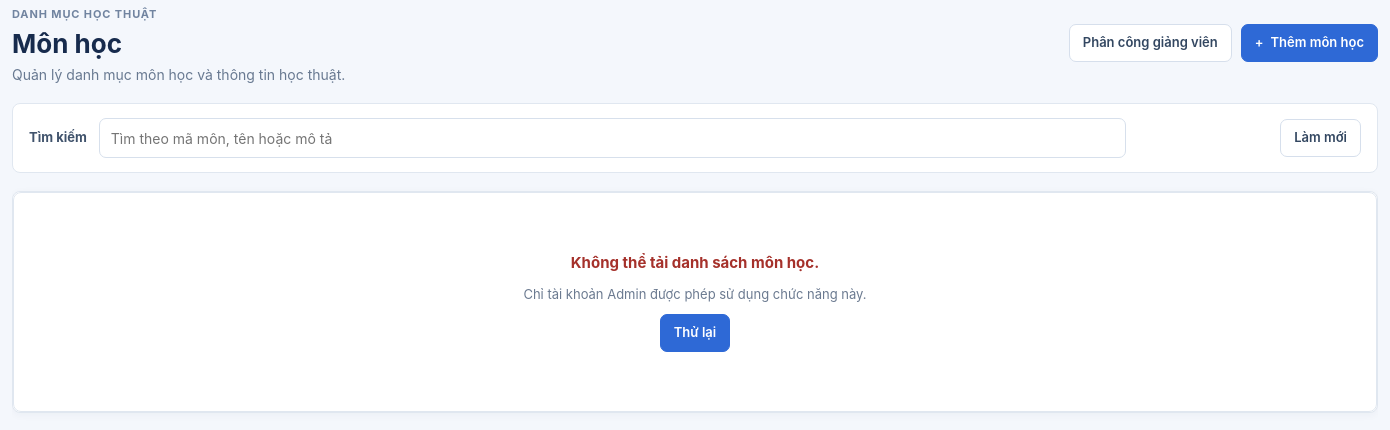
Test case: SubjectsPage › distinguishes list request errors from an empty result and retries
expect the text "Chỉ tài khoản Admin được phép sử dụng chức năng này." is shown: met, box [523,285,867,304]
Click the button "Thử lại": (695, 333) [660,314,730,352]
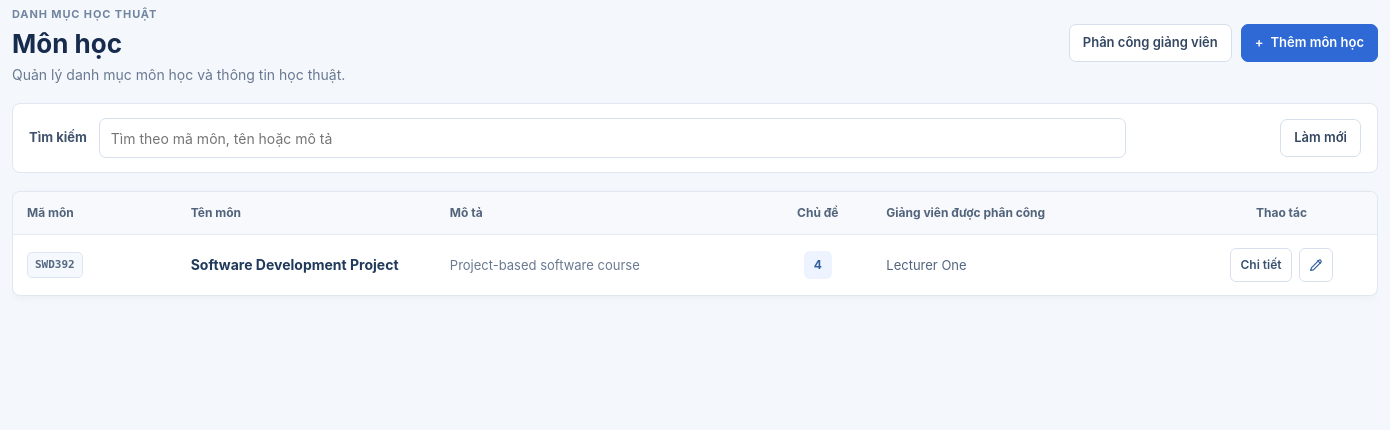
expect the text "SWD392" is shown: met, box [27,252,83,278]
